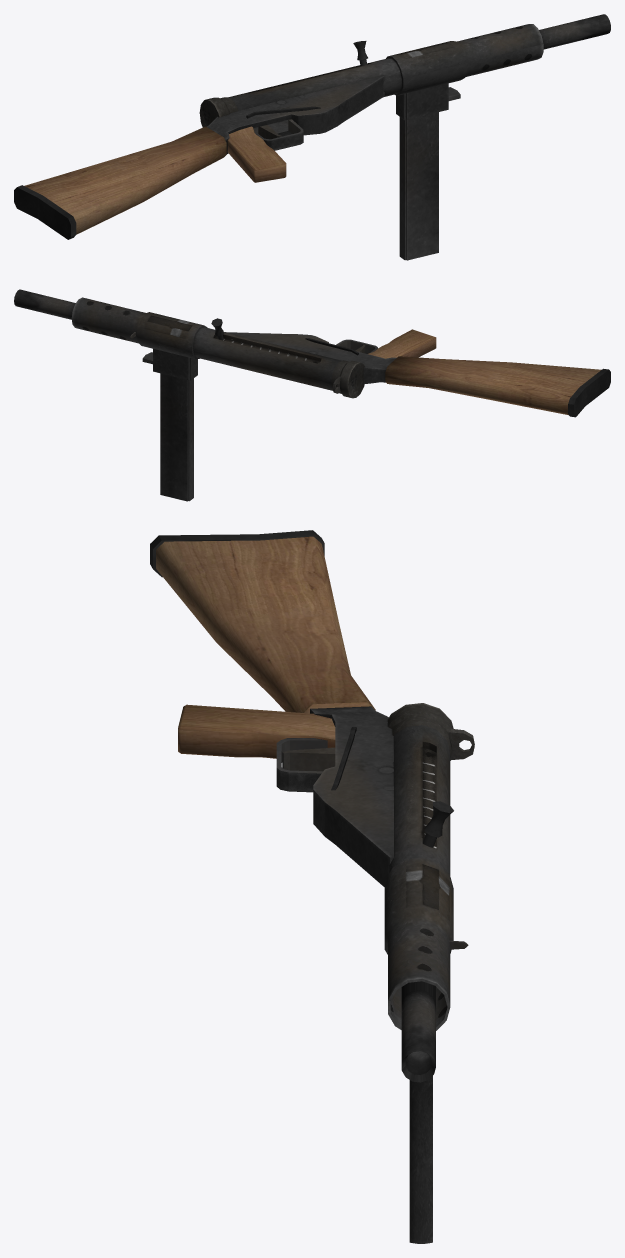
Rendered from Sten.obj.
3 renders of one model, top to bottom at view 1: azimuth 30°, elevation 25°; view 2: azimuth 150°, elevation 25°; view 3: azimuth 270°, elevation 25°, orthographic. The views are drawn at different scales.
Parts seen in each view (by area): view 1: Circle.004_Circle.003, Cube.008_Cube.007, Cube.006_Cube.019, Cube.013, Cube.012, Cube.009, Cube.011; view 2: Circle.004_Circle.003, Cube.008_Cube.007, Cube.006_Cube.019, Cube.013, Cube.012, Cube.011, Cube.009; view 3: Cube.008_Cube.007, Circle.004_Circle.003, Cube.013, Cube.012, Cube.006_Cube.019, Cube.009, Cube.010.
Part boxes in pixels (box(x1,y1,x2,y2)): Circle.004_Circle.003: box(199, 14, 610, 127); Cube.008_Cube.007: box(24, 126, 226, 234); Cube.006_Cube.019: box(399, 112, 438, 260); Cube.013: box(206, 75, 384, 154); Cube.012: box(227, 126, 286, 182); Cube.009: box(14, 185, 76, 239); Cube.011: box(396, 83, 460, 120); Circle.004_Circle.003: box(14, 289, 364, 398); Cube.008_Cube.007: box(385, 356, 601, 415); Cube.006_Cube.019: box(160, 373, 193, 501); Cube.013: box(225, 332, 396, 383); Cube.012: box(368, 329, 436, 358); Cube.011: box(142, 349, 197, 380); Cube.009: box(568, 368, 610, 417); Cube.008_Cube.007: box(156, 536, 375, 713); Circle.004_Circle.003: box(384, 703, 453, 1082); Cube.013: box(276, 706, 393, 886); Cube.012: box(178, 704, 335, 758); Cube.006_Cube.019: box(409, 1076, 432, 1243); Cube.009: box(150, 530, 324, 577); Cube.010: box(282, 747, 335, 771).
Bounding box in the file's own units: 6.44 × 2.2 × 1.7.
